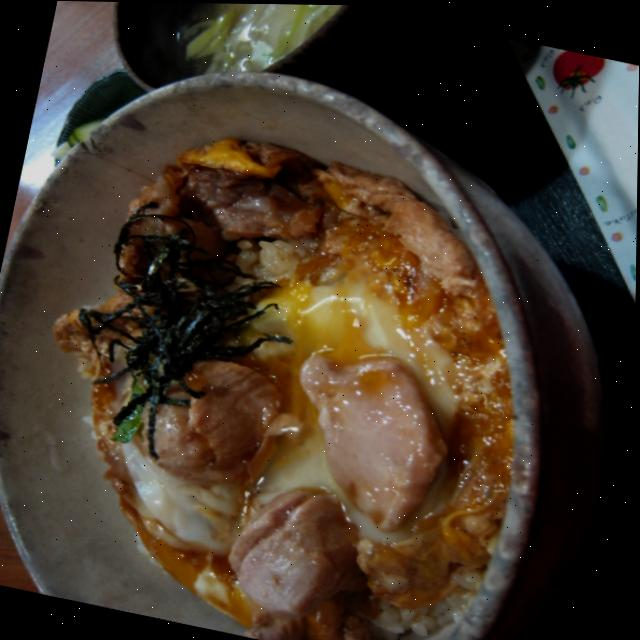米饭主食: (0, 21, 640, 640)
